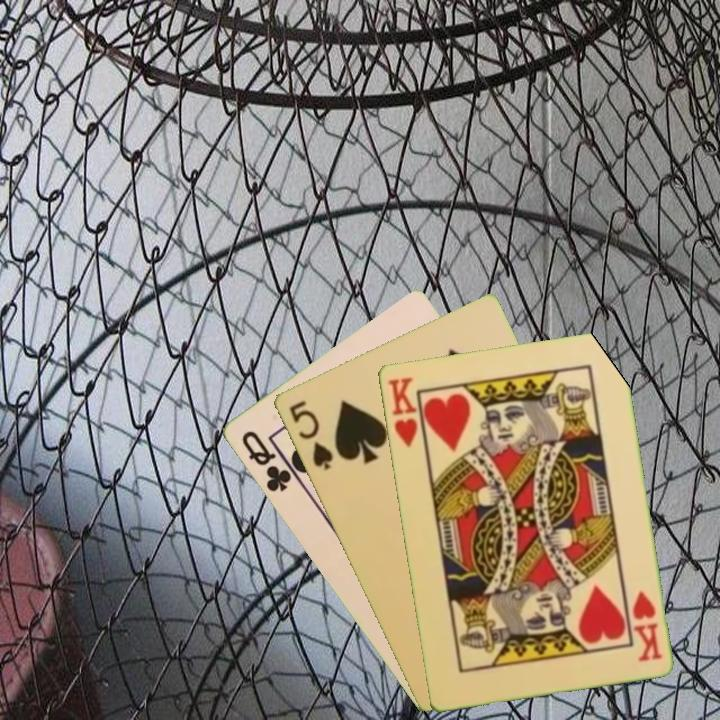5s: (285, 396, 336, 473)
Kh: (383, 373, 427, 453), (628, 586, 665, 664)
Qc: (237, 427, 294, 495)
